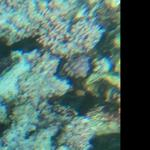dead: (3, 4, 115, 144)
